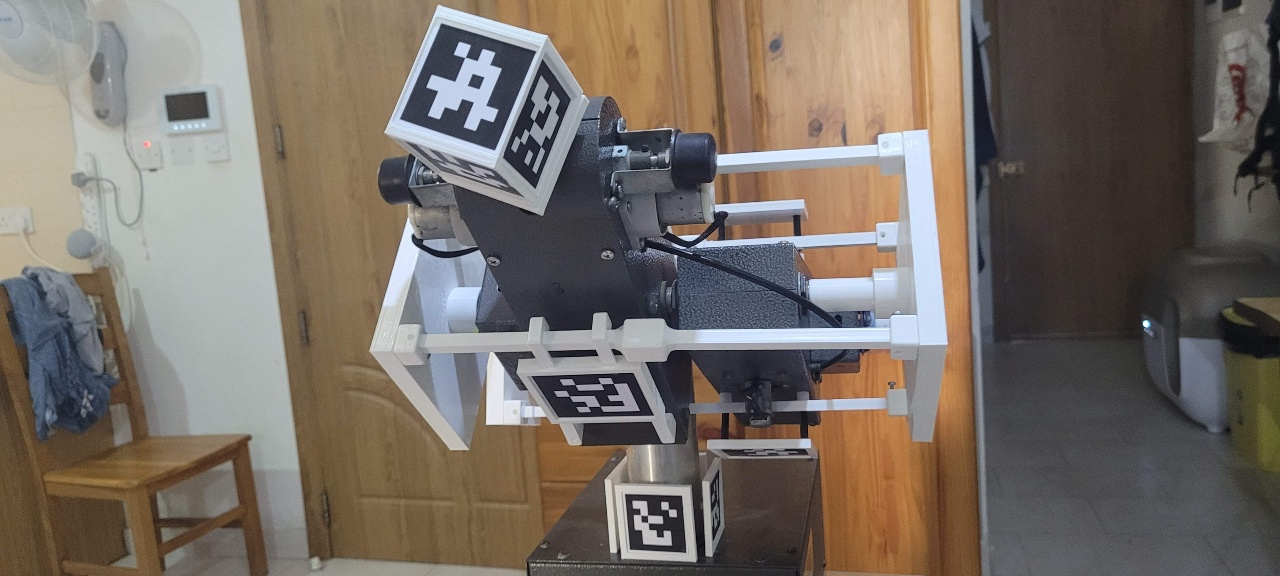Robot: (367, 3, 951, 563)
